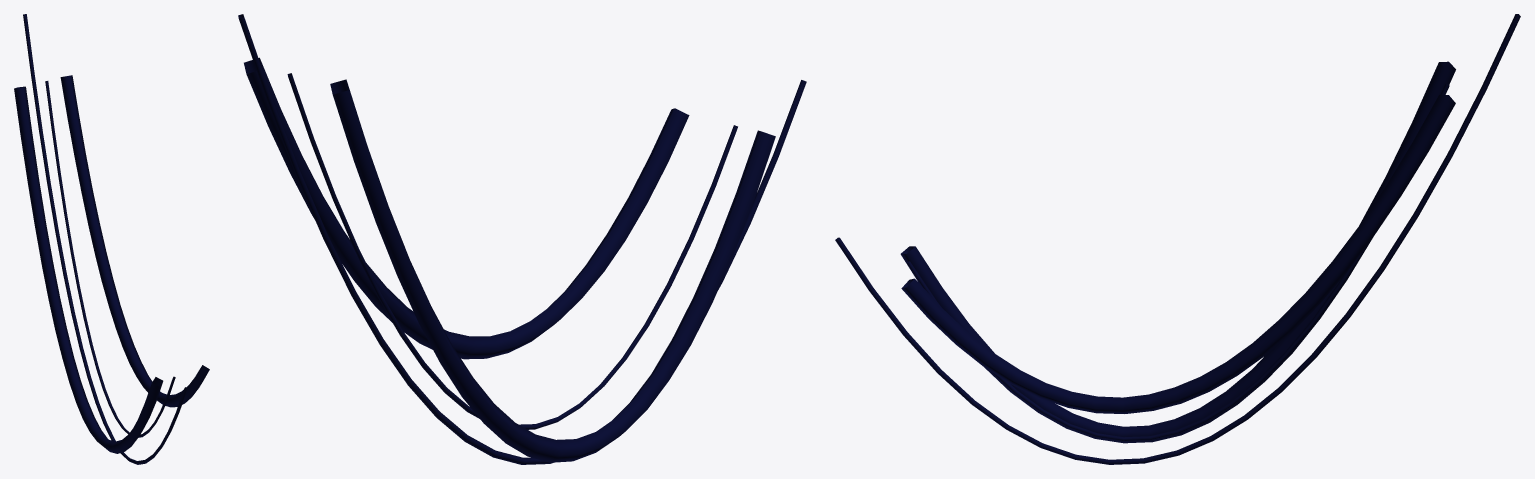
The model's file is Cables2.fbx.
3 views of the same model, side by side, from view 1: azimuth 30°, elevation 25°; view 2: azimuth 150°, elevation 25°; view 3: azimuth 270°, elevation 25° (orthographic). The views are drawn at different scales.
Parts seen in each view (by area): view 1: Catenary.003; view 2: Catenary.003; view 3: Catenary.003.
Part boxes in pixels (x1=…): Catenary.003: x1=14, y1=14, x2=209, y2=464; Catenary.003: x1=238, y1=14, x2=806, y2=464; Catenary.003: x1=835, y1=14, x2=1520, y2=464.
Bounding box in the file's own units: 159 × 480 × 620.
